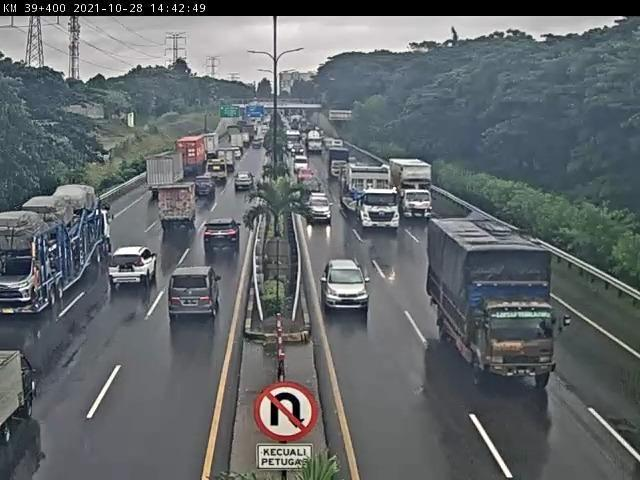car: (322, 258, 373, 313), (168, 266, 219, 318), (109, 246, 158, 282), (205, 219, 243, 251), (310, 195, 333, 224), (194, 176, 217, 198), (303, 182, 325, 205), (299, 171, 321, 191), (234, 174, 257, 193)
truck: (428, 219, 563, 389), (3, 186, 115, 314), (346, 165, 405, 235), (391, 159, 437, 224), (158, 180, 200, 234), (146, 151, 189, 200), (330, 148, 352, 180), (206, 159, 229, 180)
